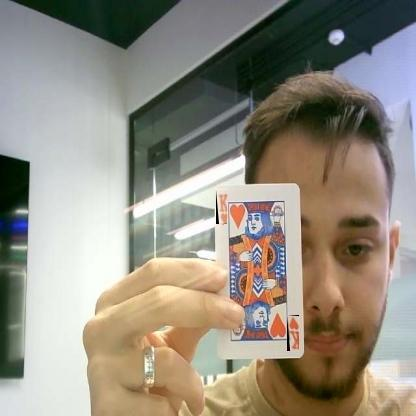KH: (287, 315, 299, 351), (216, 189, 227, 224)
